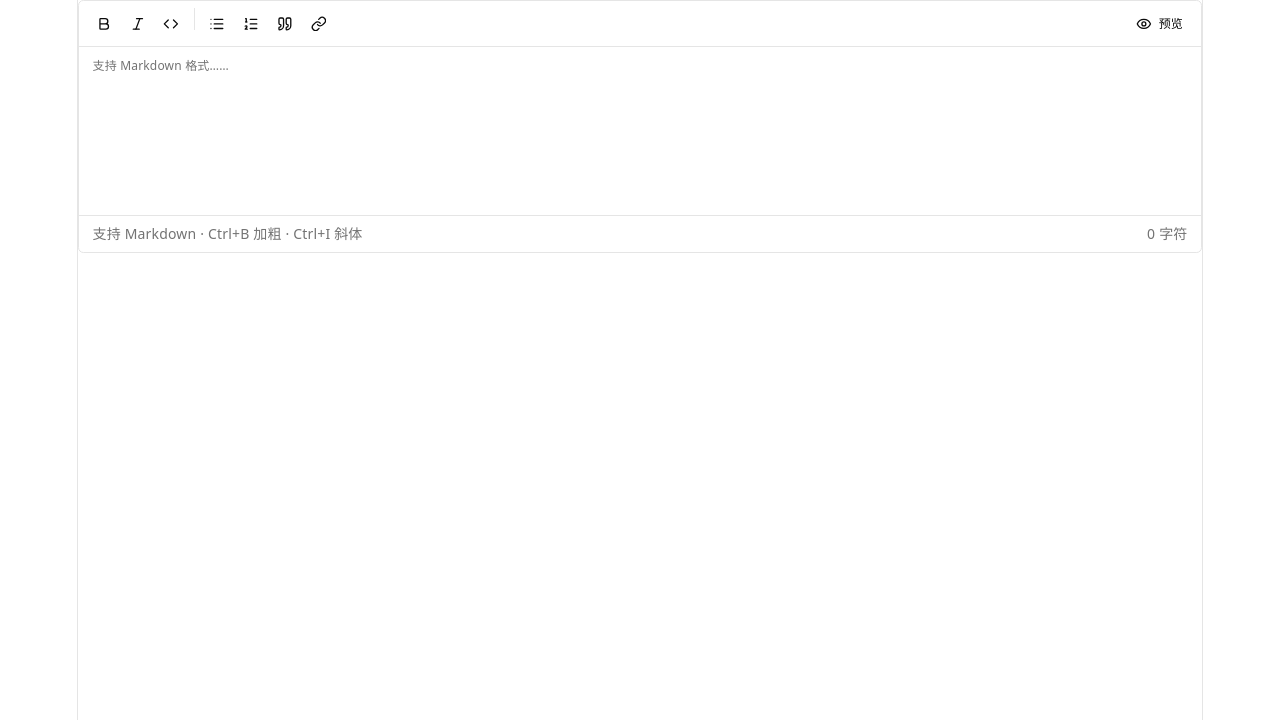
Scenario: RichTextEditor › updates character count as you type
In the text box labelled "支持 Markdown 格式……": (640, 128) [79,47,1201,209], type "Hello"
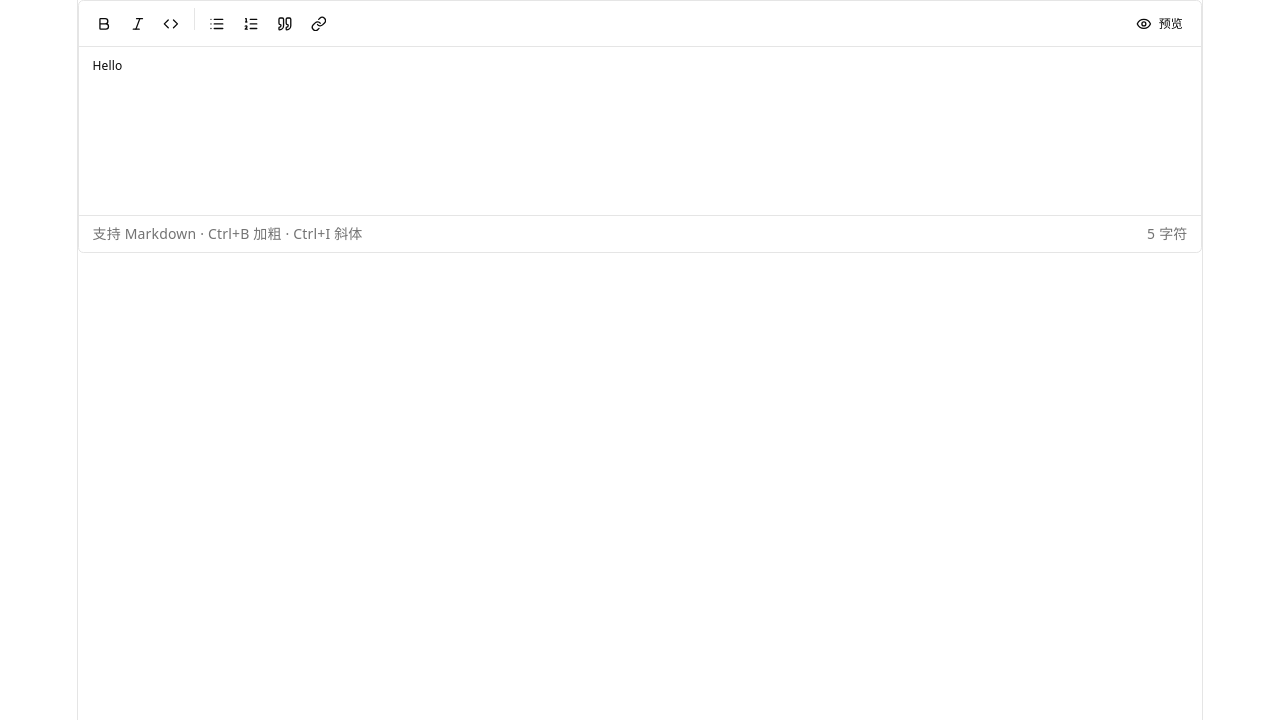
Expected: the text "5 字符" is shown, [1147,223,1188,245]
